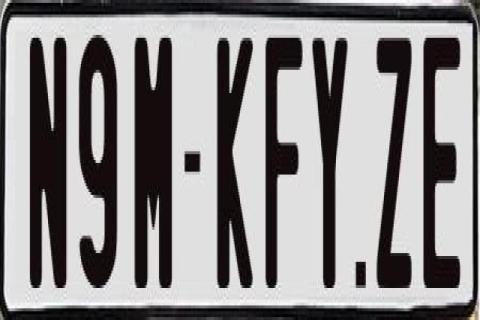0: (76, 32, 120, 302)
E: (422, 35, 462, 285)
F: (263, 32, 301, 296)
K: (214, 29, 250, 297)
M: (134, 29, 175, 291)
N: (27, 29, 70, 279)
Y: (313, 29, 354, 288)
Z: (374, 32, 412, 282)
